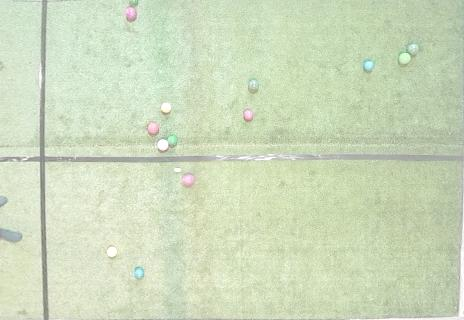blue: (364, 59, 375, 71), (134, 267, 144, 279)
green: (398, 52, 411, 65), (407, 43, 419, 55), (248, 79, 259, 90), (168, 135, 178, 145), (127, 1, 139, 4)
red: (182, 173, 194, 186), (147, 122, 159, 134), (125, 7, 136, 20), (157, 139, 168, 151), (243, 109, 254, 120)
vline: (1, 1, 51, 319), (455, 1, 463, 319)
white: (174, 168, 181, 172)
yellow: (161, 103, 172, 113), (107, 246, 117, 257)
